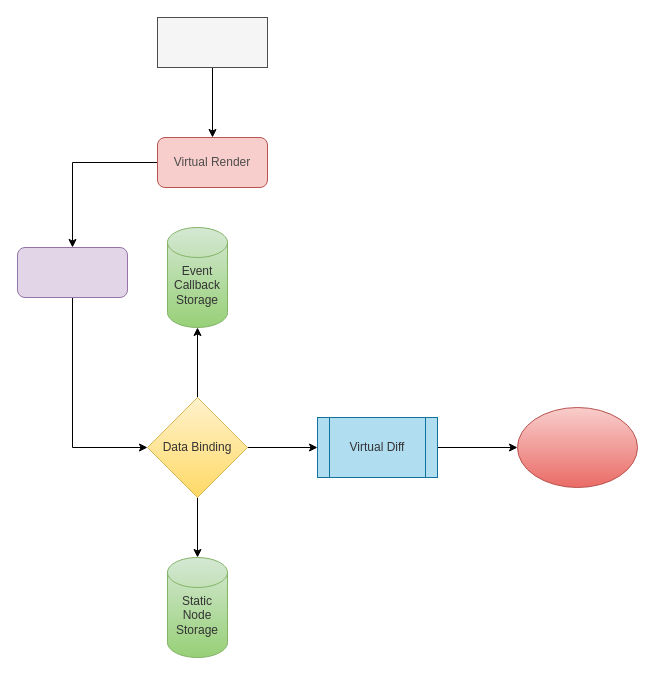
This 655x675 diagram has some shape labels left out. The centre of each missing label's shape, as x and y in pixels:
"Html Parse" goes at (x=72, y=272).
"Render Entry" goes at (x=212, y=42).
"Render Stack" goes at (x=577, y=447).
